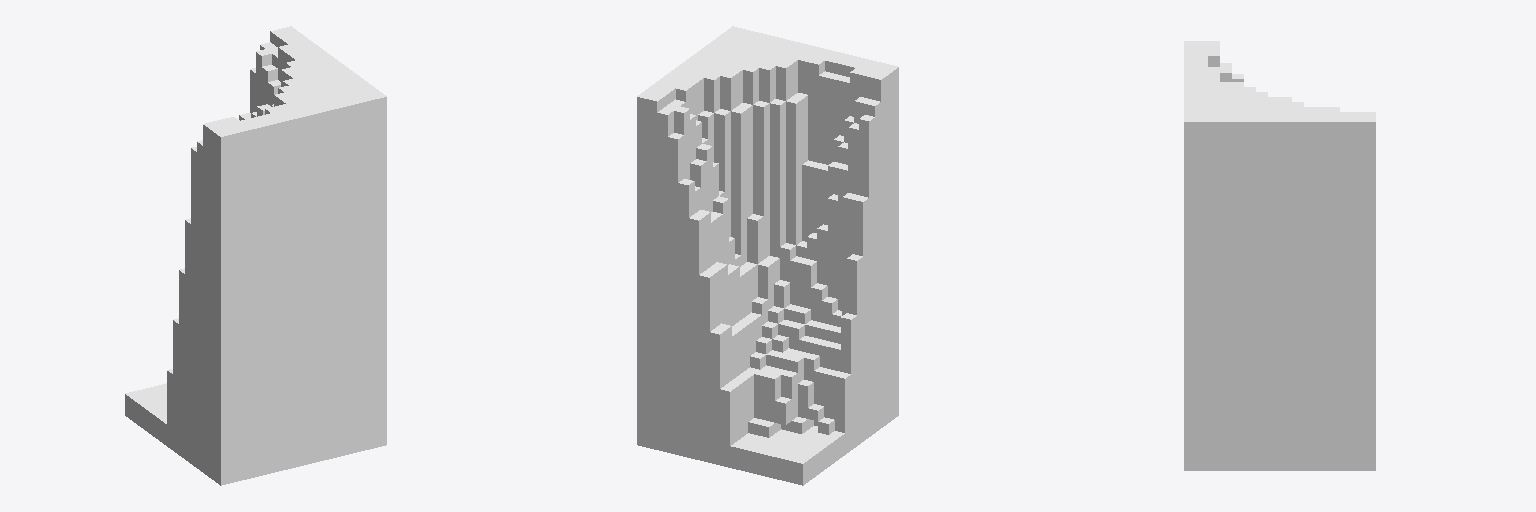
File: Mountain_angle_2.obj
3 renders of one model, left to right at view 1: azimuth 30°, elevation 25°; view 2: azimuth 150°, elevation 25°; view 3: azimuth 270°, elevation 25°, orthographic.
Parts seen in each view (by area): view 1: object 1; view 2: object 1; view 3: object 1.
Part boxes in pixels (left/top/right/bottom): object 1: left=125, top=26, right=386, bottom=485; object 1: left=637, top=26, right=898, bottom=485; object 1: left=1184, top=41, right=1375, bottom=470.
Bounding box in the file's own units: 1.6 × 3.2 × 1.6.